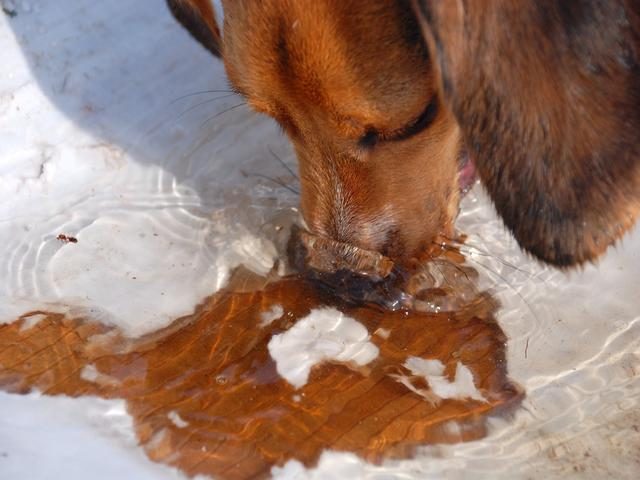dog: (142, 13, 632, 334)
